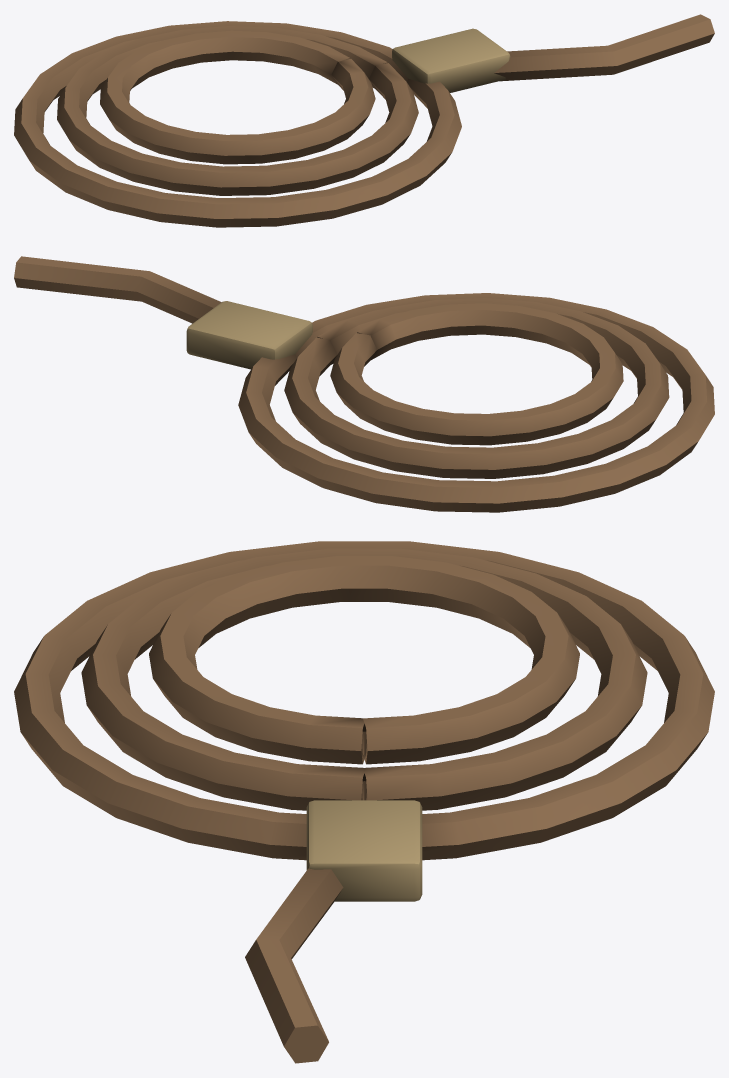
File: strap.glb
The picture shows the model from 3 angles, top to bottom: view 1: azimuth 30°, elevation 25°; view 2: azimuth 150°, elevation 25°; view 3: azimuth 270°, elevation 25°; orthographic projection. The views are drawn at different scales.
Parts seen in each view (by area): view 1: boat_leather, boat_brass; view 2: boat_leather, boat_brass; view 3: boat_leather, boat_brass.
Part boxes in pixels (x1,y1,x2,y2): boat_leather: [14, 14, 714, 227]; boat_brass: [392, 28, 510, 92]; boat_leather: [14, 256, 714, 512]; boat_brass: [186, 301, 312, 369]; boat_leather: [14, 541, 714, 1063]; boat_brass: [306, 800, 422, 901].
Size of the model in its own units: 0.6027 by 0.0449 by 0.3632.
